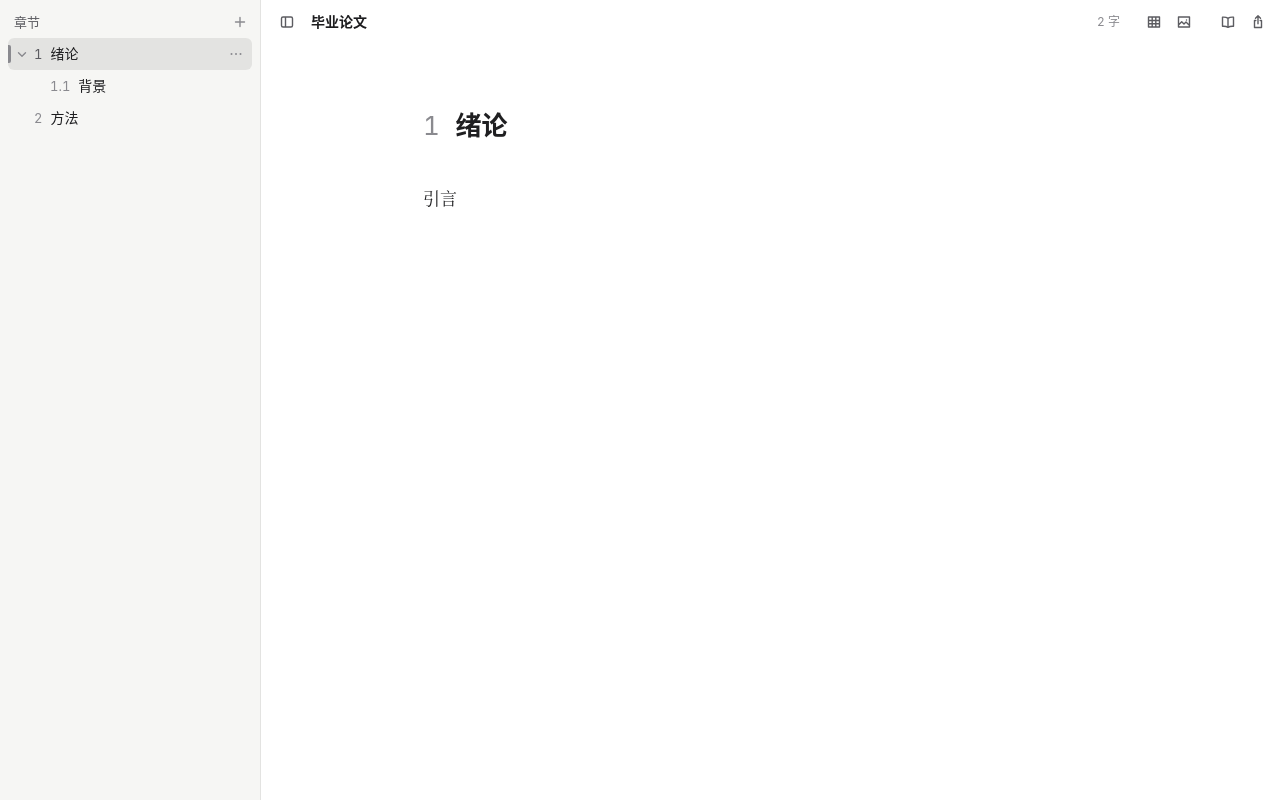
修改文档标题：在工具栏的文档名处原地重命名，Esc 放弃、Enter 确认，焦点回到文档名
The width and height of the screenshot is (1280, 800).
Click the button with class "document-title__button" at (346, 22), box [305, 8, 387, 36]
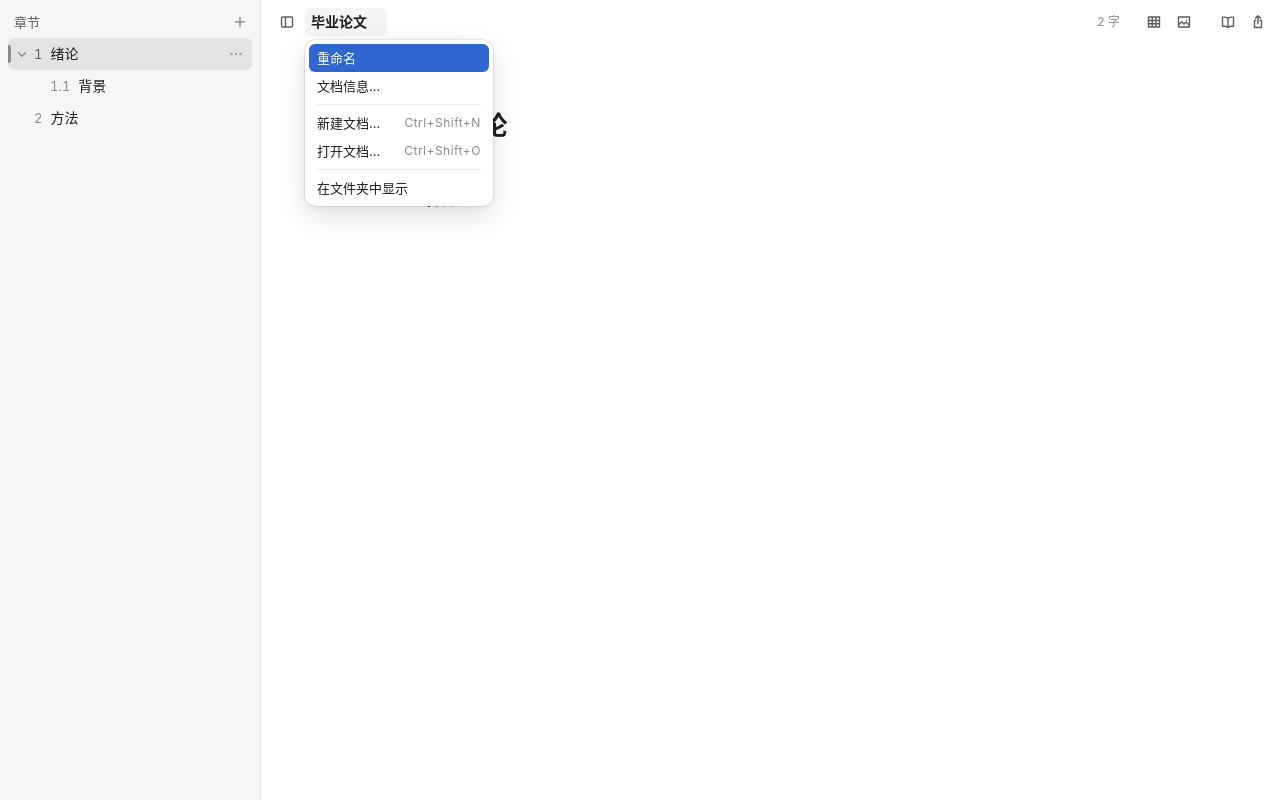
Click the menu item "重命名" at (399, 58), box [309, 44, 489, 72]
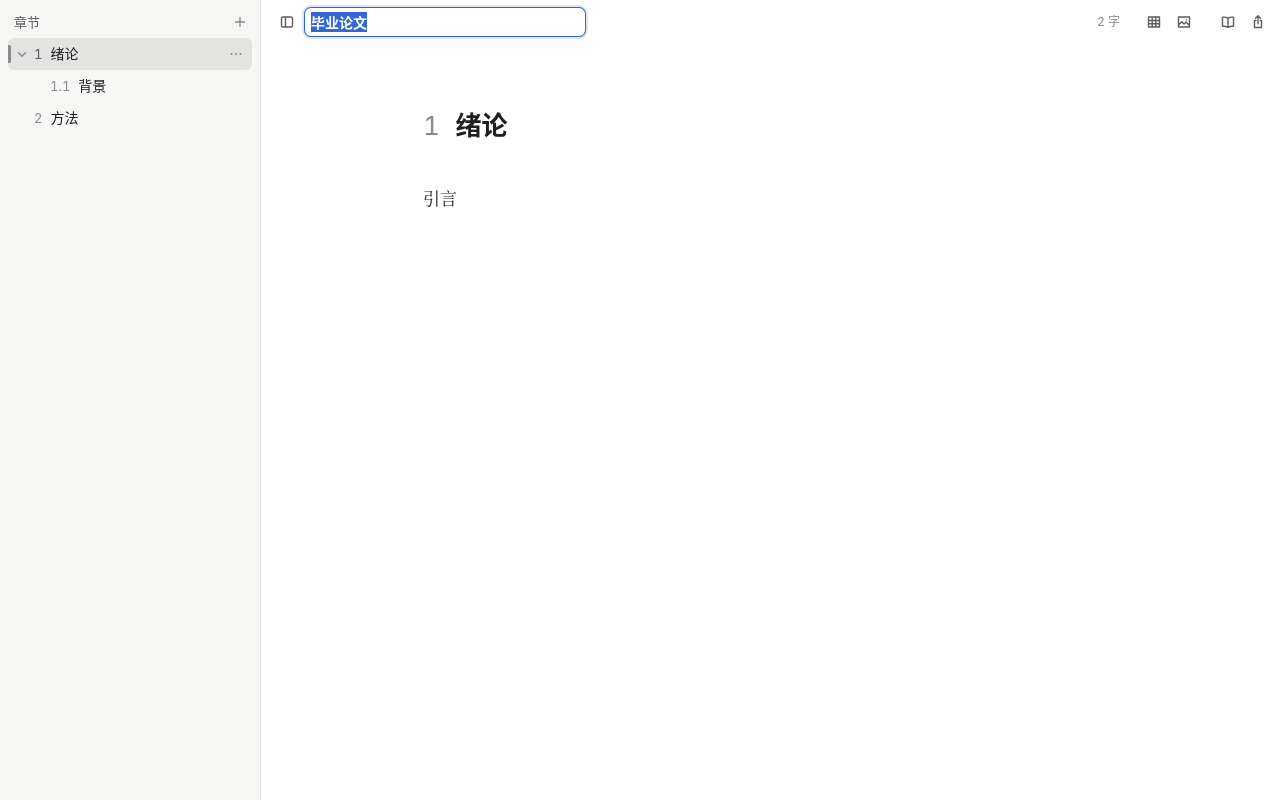
Replace the text in the field with class "document-title__input" with "不要" at (445, 22), box [305, 8, 585, 36]
Press Escape in the field with class "document-title__input", box [305, 8, 585, 36]
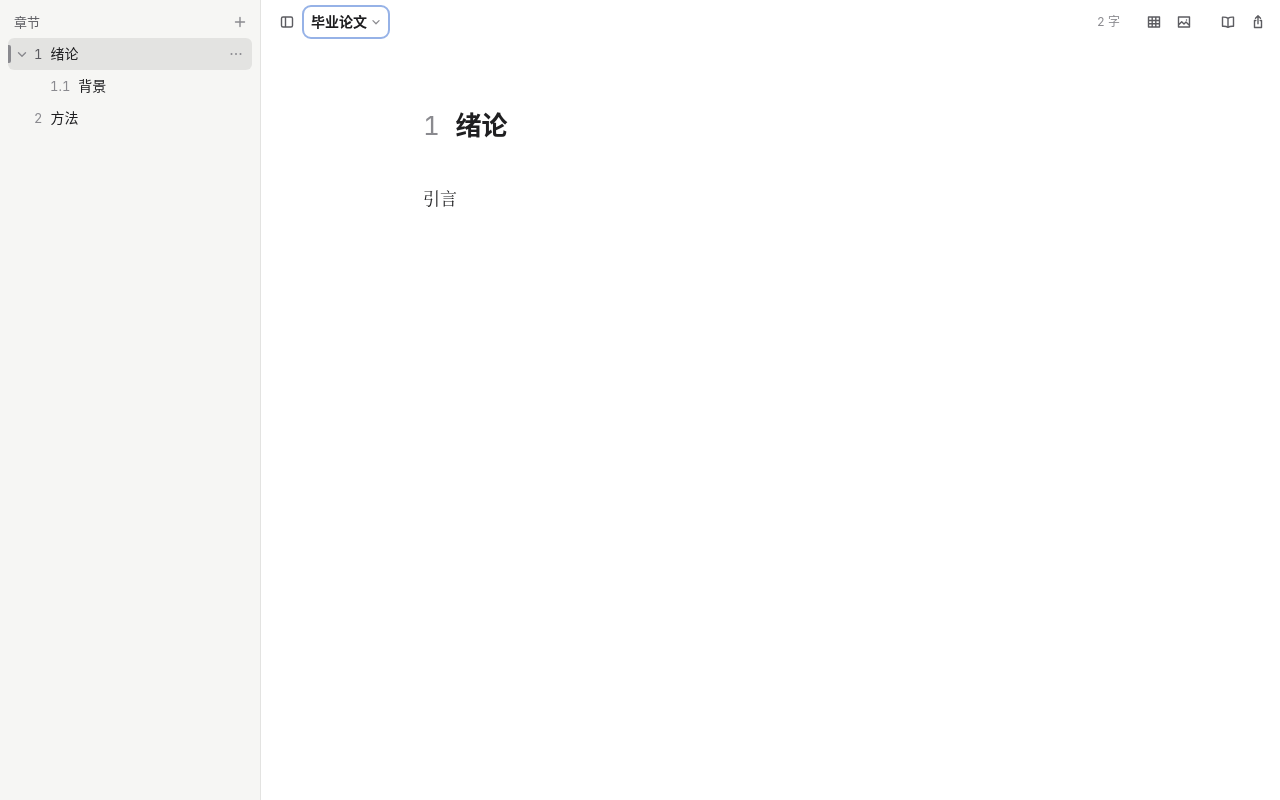
Result: the text with class "document-title__text" reads "毕业论文" at [311, 13, 367, 30]
Click the button with class "document-title__button" at (346, 22), box [305, 8, 387, 36]
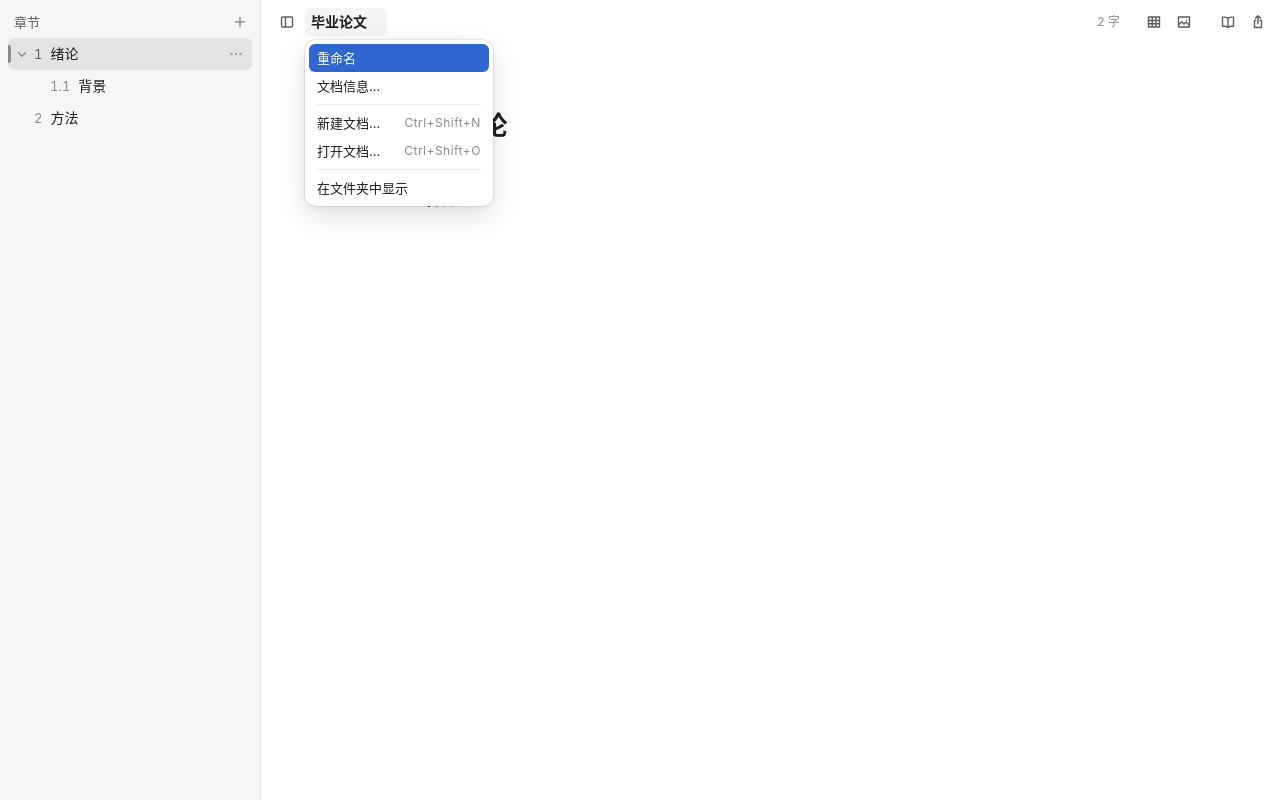
Click the menu item "重命名" at (399, 58), box [309, 44, 489, 72]
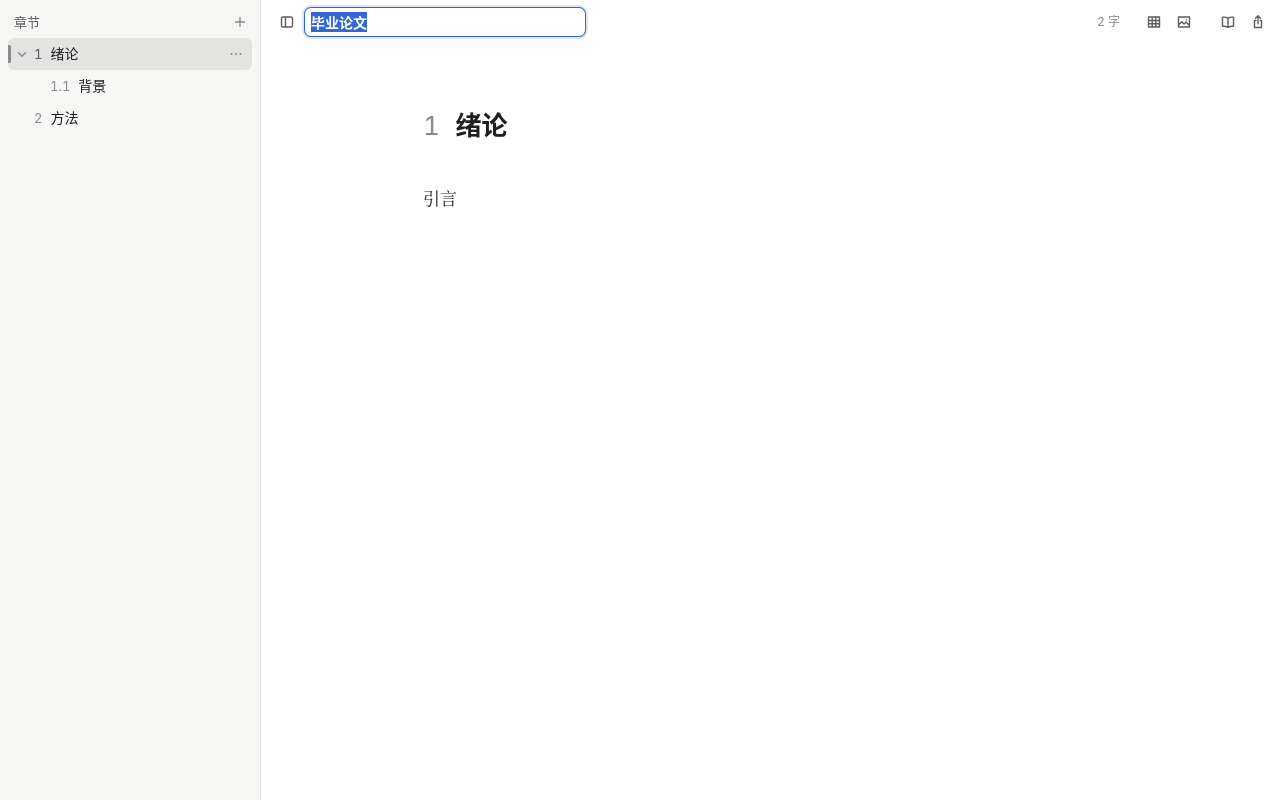
Replace the text in the field with class "document-title__input" with "  新标题  " at (445, 22), box [305, 8, 585, 36]
Press Enter in the field with class "document-title__input", box [305, 8, 585, 36]
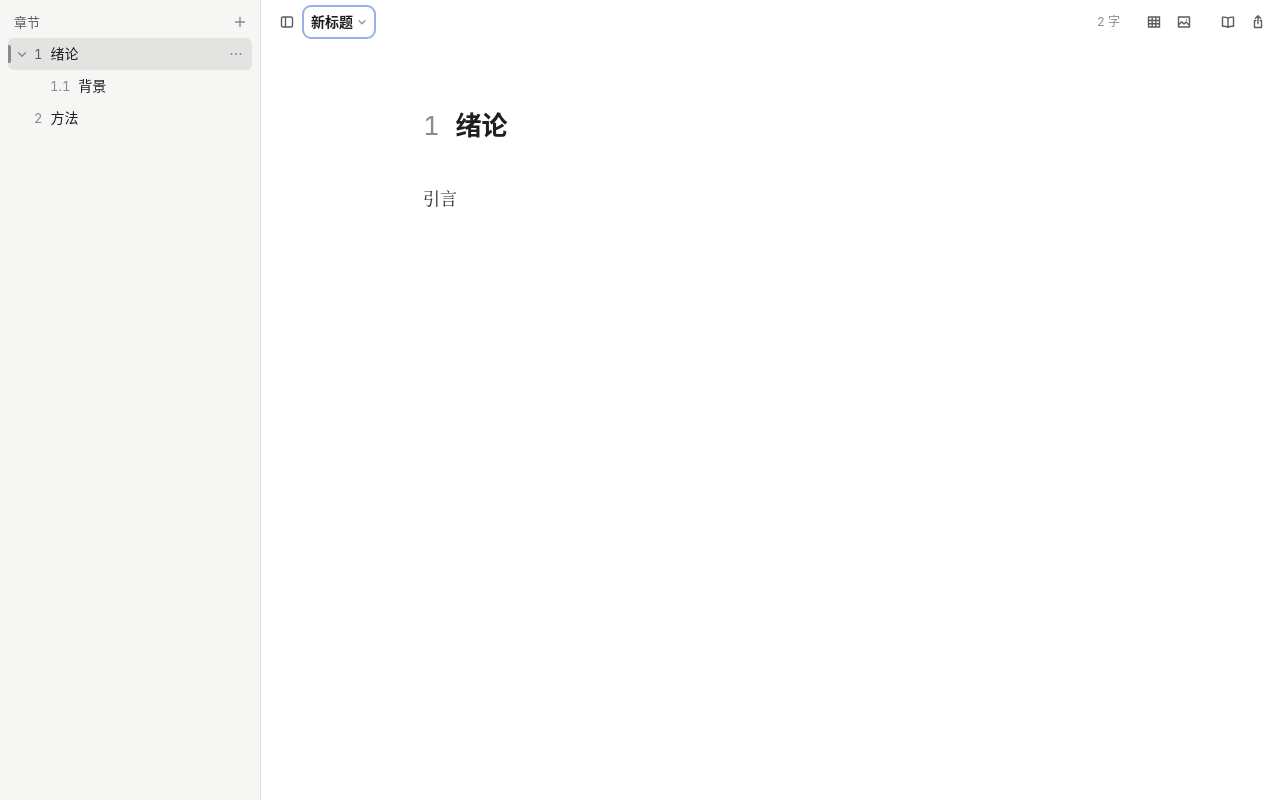
Result: the text with class "document-title__text" reads "新标题" at [311, 13, 353, 30]
